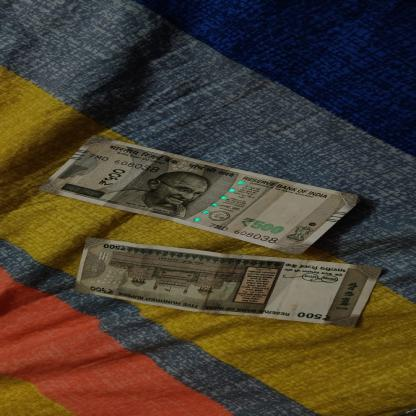New500Back: (74, 236, 384, 329)
New500Front: (38, 134, 361, 256)
